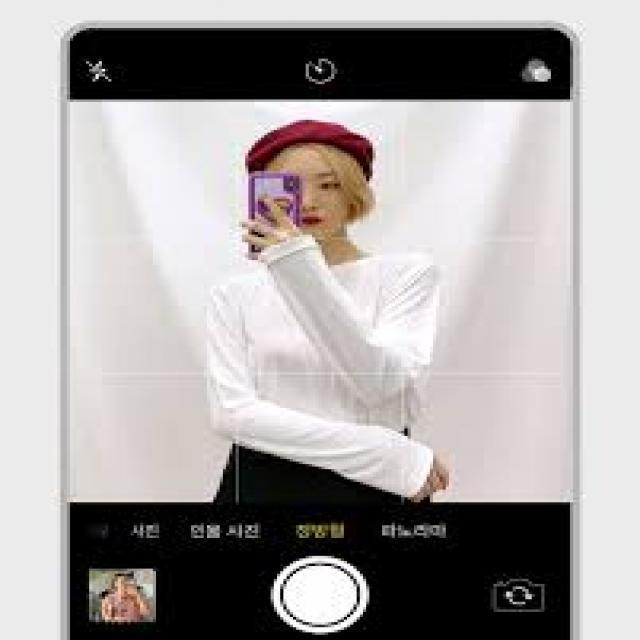Phone: (252, 174, 300, 258)
